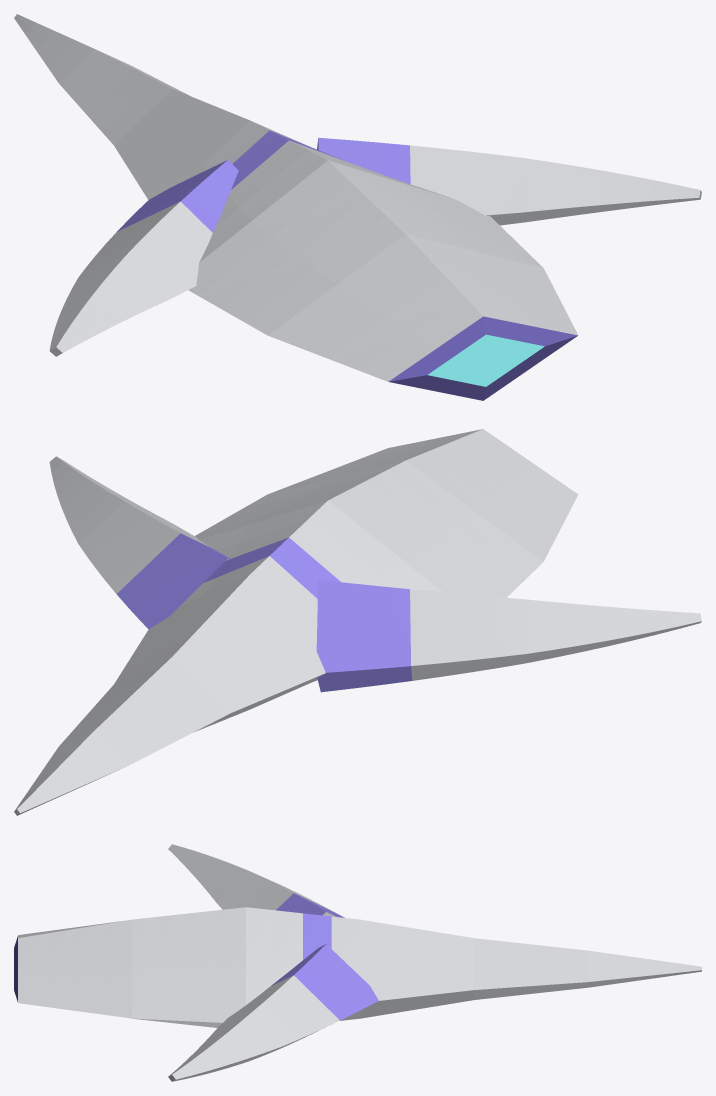
Rendered from axiom_ff.glb.
3 views of the same model, one above another, from view 1: azimuth 30°, elevation 25°; view 2: azimuth 150°, elevation 25°; view 3: azimuth 270°, elevation 25° (orthographic). The views are drawn at different scales.
Visible parts, largest first — view 1: hull_mesh, limb_0_port_mesh, limb_0_mesh; view 2: hull_mesh, limb_0_mesh, limb_0_port_mesh; view 3: hull_mesh, limb_0_port_mesh, limb_0_mesh.
Part boxes in pixels (<box>): hull_mesh: <box>14,14,578,400</box>; limb_0_port_mesh: <box>317,137,701,225</box>; limb_0_mesh: <box>49,160,238,356</box>; hull_mesh: <box>14,429,578,815</box>; limb_0_mesh: <box>316,580,701,692</box>; limb_0_port_mesh: <box>49,456,235,629</box>; hull_mesh: <box>14,907,701,1027</box>; limb_0_port_mesh: <box>168,944,378,1081</box>; limb_0_mesh: <box>168,844,344,917</box>.
Bounding box in the file's own units: 46.86 × 11.6 × 58.35.
